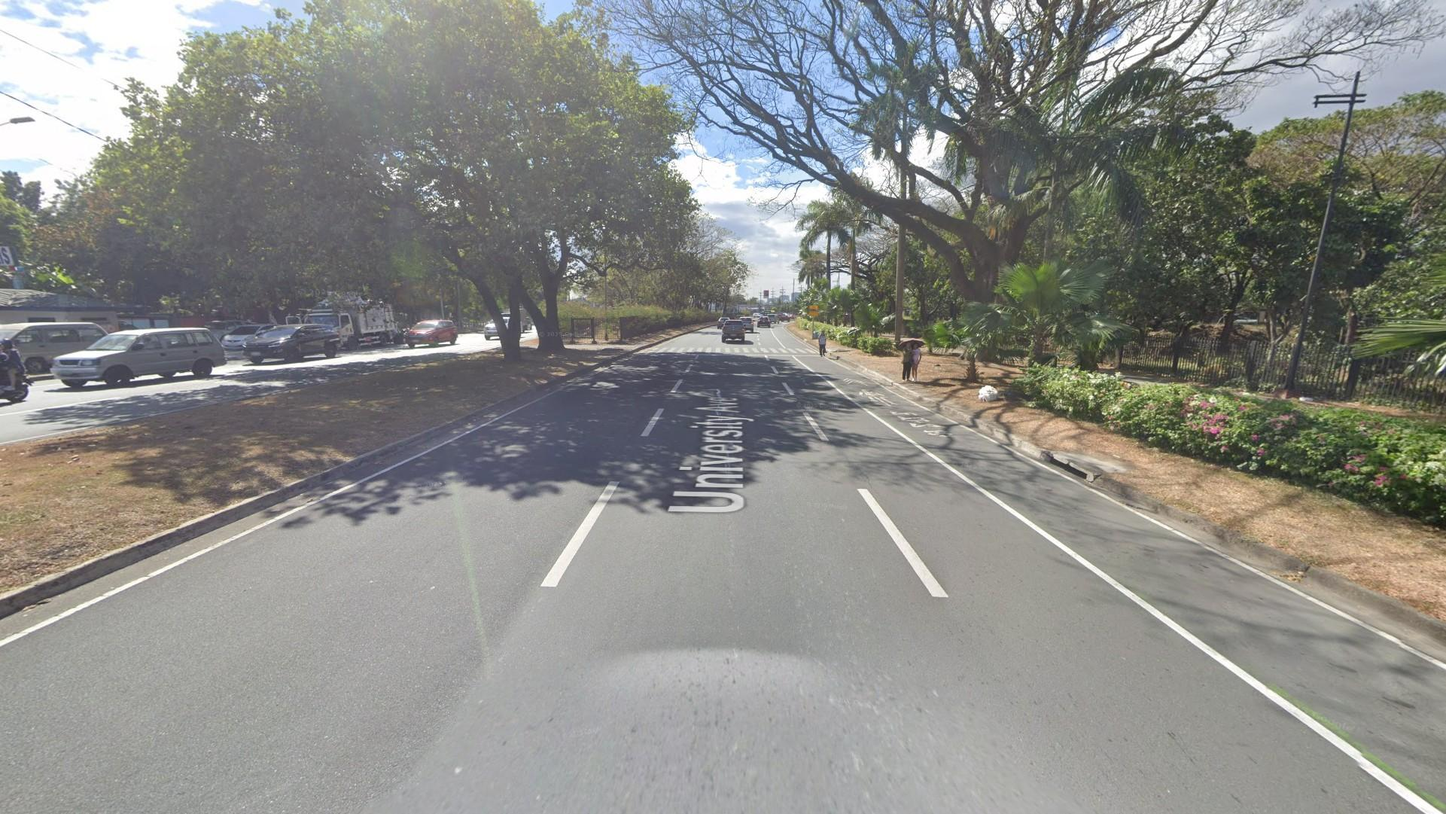pedestrian: (901, 340, 912, 382), (910, 342, 921, 383), (818, 329, 828, 357)
